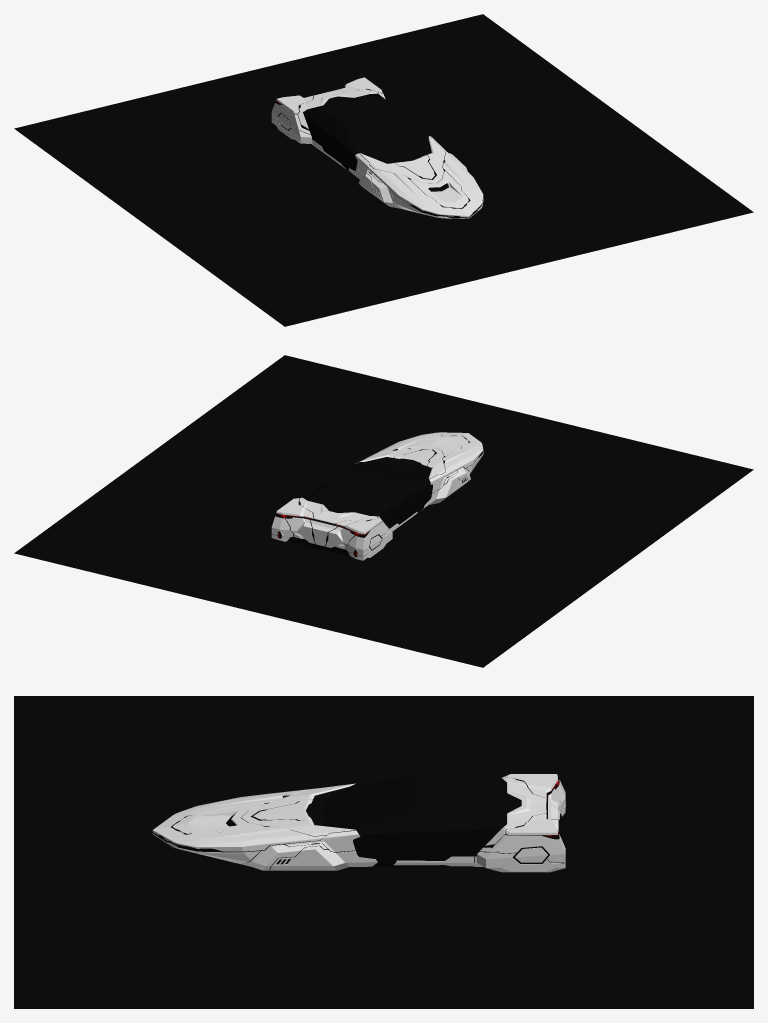
Rendered from scifi.glb.
The picture shows the model from 3 angles, top to bottom: view 1: azimuth 30°, elevation 25°; view 2: azimuth 150°, elevation 25°; view 3: azimuth 270°, elevation 25°; orthographic projection. The views are drawn at different scales.
Parts seen in each view (by area): view 1: SFV_011_02_shadow.001, Cube.002, Cube, Cube.027, Cube.028, Cube.026, Cube.025, Cube.017, Cube.015; view 2: SFV_011_02_shadow.001, Cube, Cube.002, Cube.027, Cube.020, Cube.018, Cube.017, Cube.015, Cube.025, Cube.028, Cube.026; view 3: SFV_011_02_shadow.001, Cube.002, Cube, Cube.027, Cube.037, Cube.025, Cube.028, Cube.026, Cube.018, Cube.017, Cube.015, Cube.019 (+5 smaller).
Part boxes in pixels (x1,y1,x2,y2): SFV_011_02_shadow.001: [14, 14, 753, 326]; Cube.002: [310, 95, 426, 161]; Cube: [272, 87, 429, 171]; Cube.027: [369, 147, 483, 217]; Cube.028: [359, 136, 445, 183]; Cube.026: [410, 171, 468, 208]; Cube.025: [349, 138, 483, 218]; Cube.017: [276, 77, 382, 113]; Cube.015: [299, 89, 377, 111]; SFV_011_02_shadow.001: [14, 355, 753, 667]; Cube: [272, 462, 430, 557]; Cube.002: [311, 462, 426, 512]; Cube.027: [369, 432, 483, 476]; Cube.020: [285, 517, 354, 549]; Cube.018: [271, 516, 389, 556]; Cube.017: [276, 498, 382, 534]; Cube.015: [299, 498, 377, 523]; Cube.025: [365, 435, 482, 504]; Cube.028: [360, 447, 445, 478]; Cube.026: [410, 435, 468, 456]; SFV_011_02_shadow.001: [14, 696, 753, 1008]; Cube.002: [327, 778, 503, 854]; Cube: [323, 775, 564, 866]; Cube.027: [152, 789, 325, 851]; Cube.037: [270, 846, 377, 870]; Cube.025: [153, 787, 374, 870]; Cube.028: [241, 783, 355, 836]; Cube.026: [172, 803, 264, 833]; Cube.018: [479, 780, 565, 862]; Cube.017: [505, 774, 557, 835]; Cube.015: [503, 777, 546, 829]; Cube.019: [475, 808, 565, 872].
Bounding box in the file's own units: 12.43 × 1.11 × 12.43.
6 materials, 3 textured.
